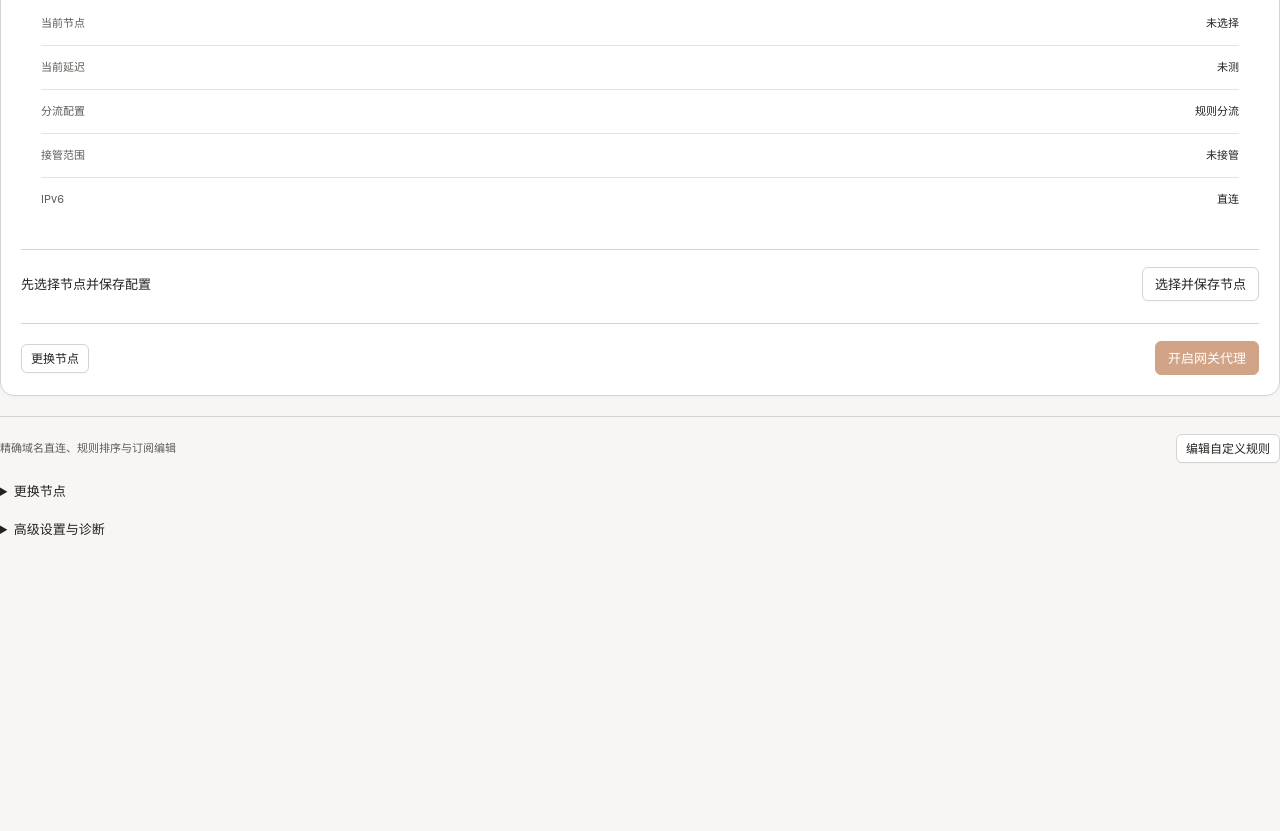
Test case: real proxy operations › captures only checked observed devices after a second confirmation
Click the heading "高级设置与诊断". click: coordinates (59, 529)
box: [14, 521, 105, 537]
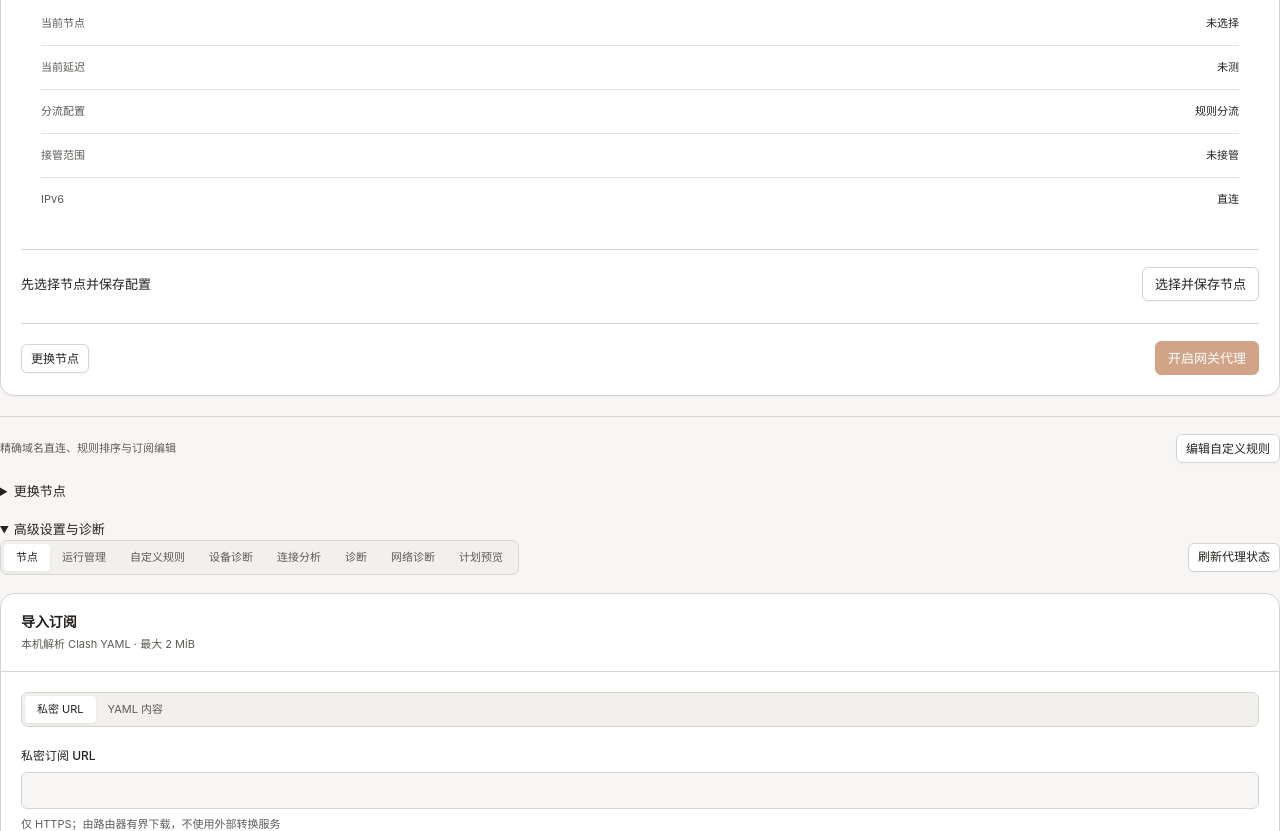
Click the tab "设备诊断". click: coordinates (231, 557)
box: [197, 544, 265, 570]
(page scrolled)
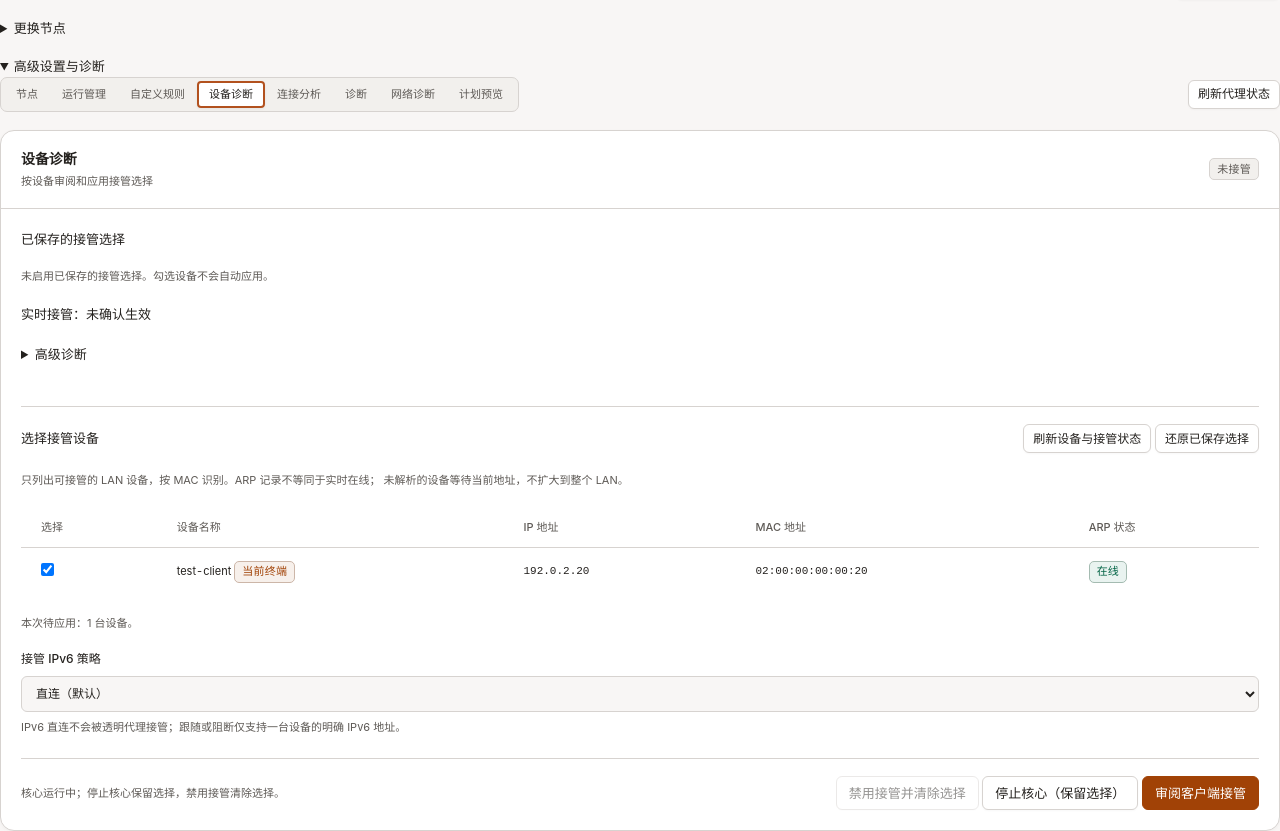
Check: the button "审阅客户端接管" is enabled
Check: the checkbox named "选择设备 test-client" is checked, box [41, 563, 54, 576]
Click the button "审阅客户端接管". click: coordinates (1200, 794)
box: [1142, 776, 1259, 810]
(page scrolled)
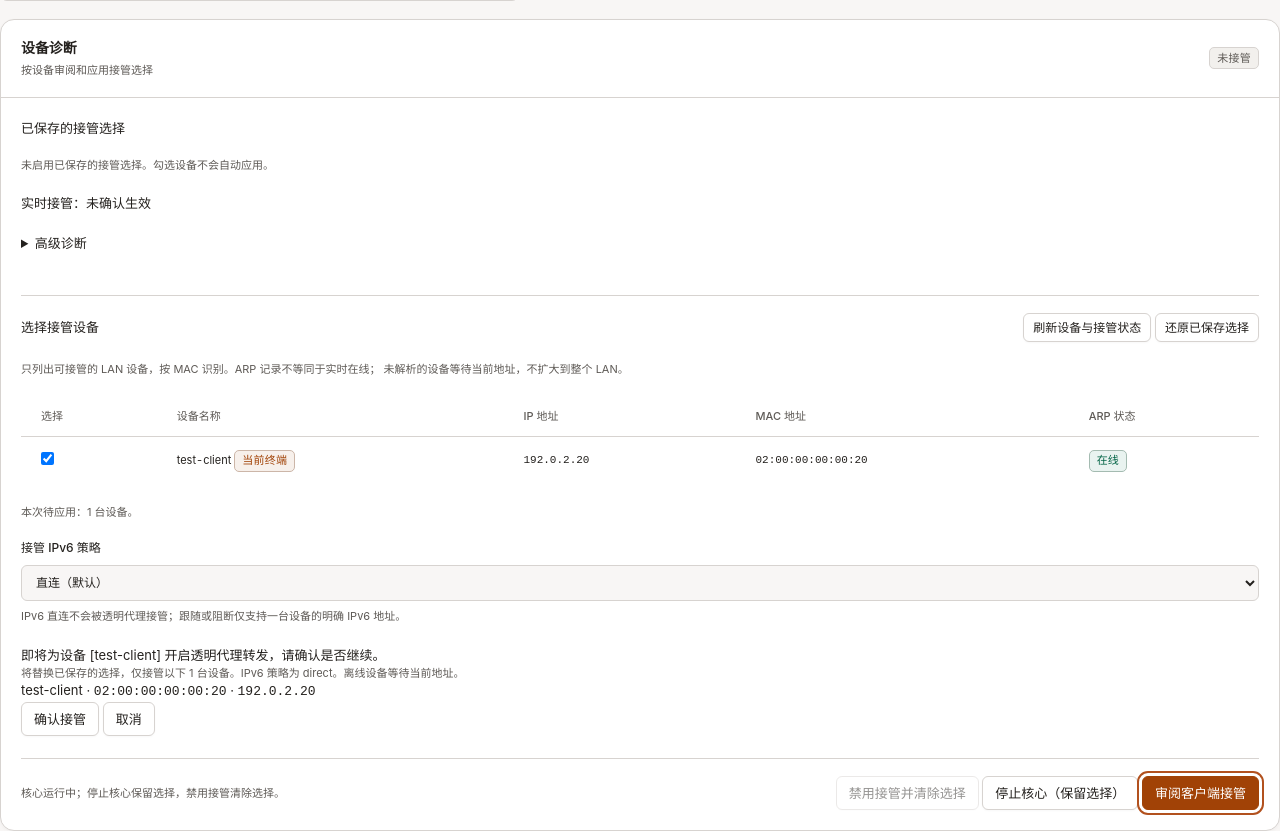
Check: the dialog named "开启客户端透明接管" is shown, box [21, 648, 464, 736]
Click the button "确认接管". click: coordinates (60, 719)
box: [21, 702, 99, 736]
(page scrolled)
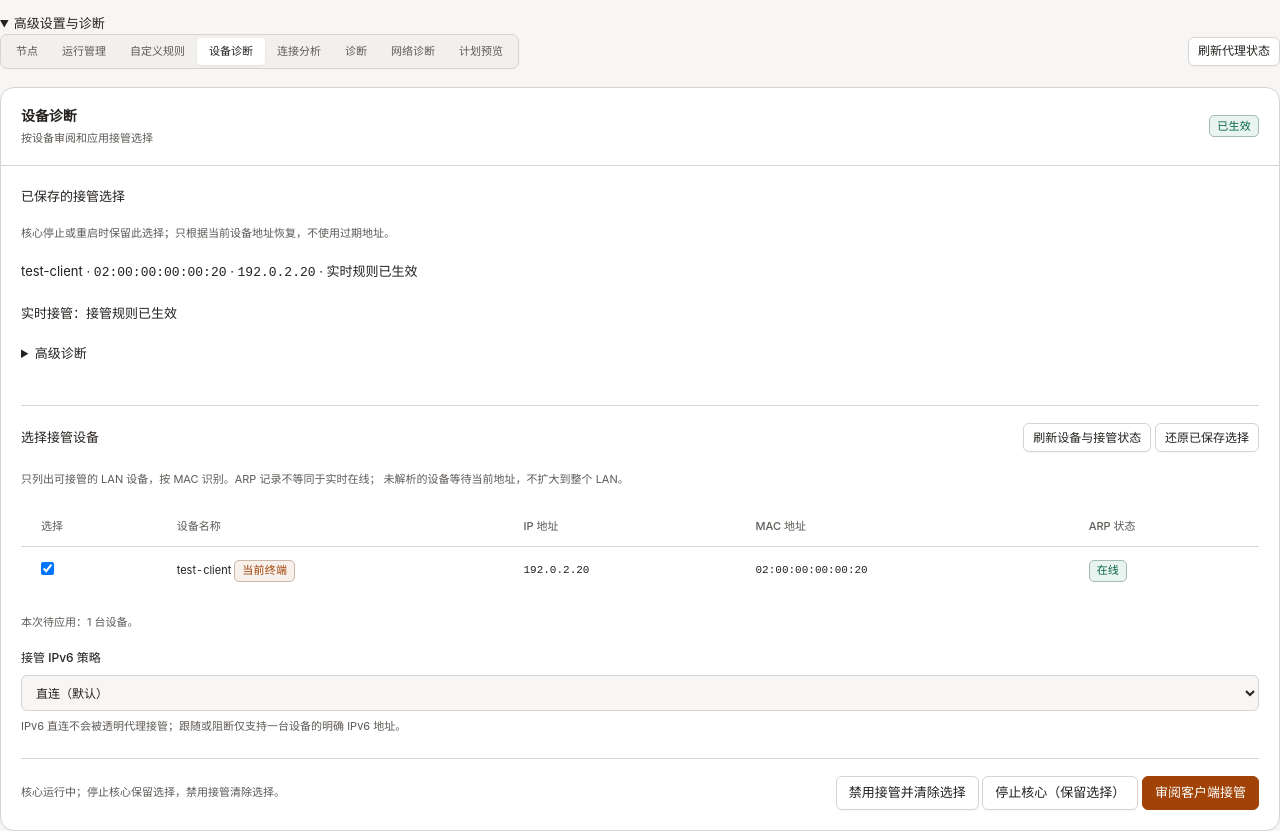
Check: the text "已生效" is shown, box [1209, 115, 1259, 137]
